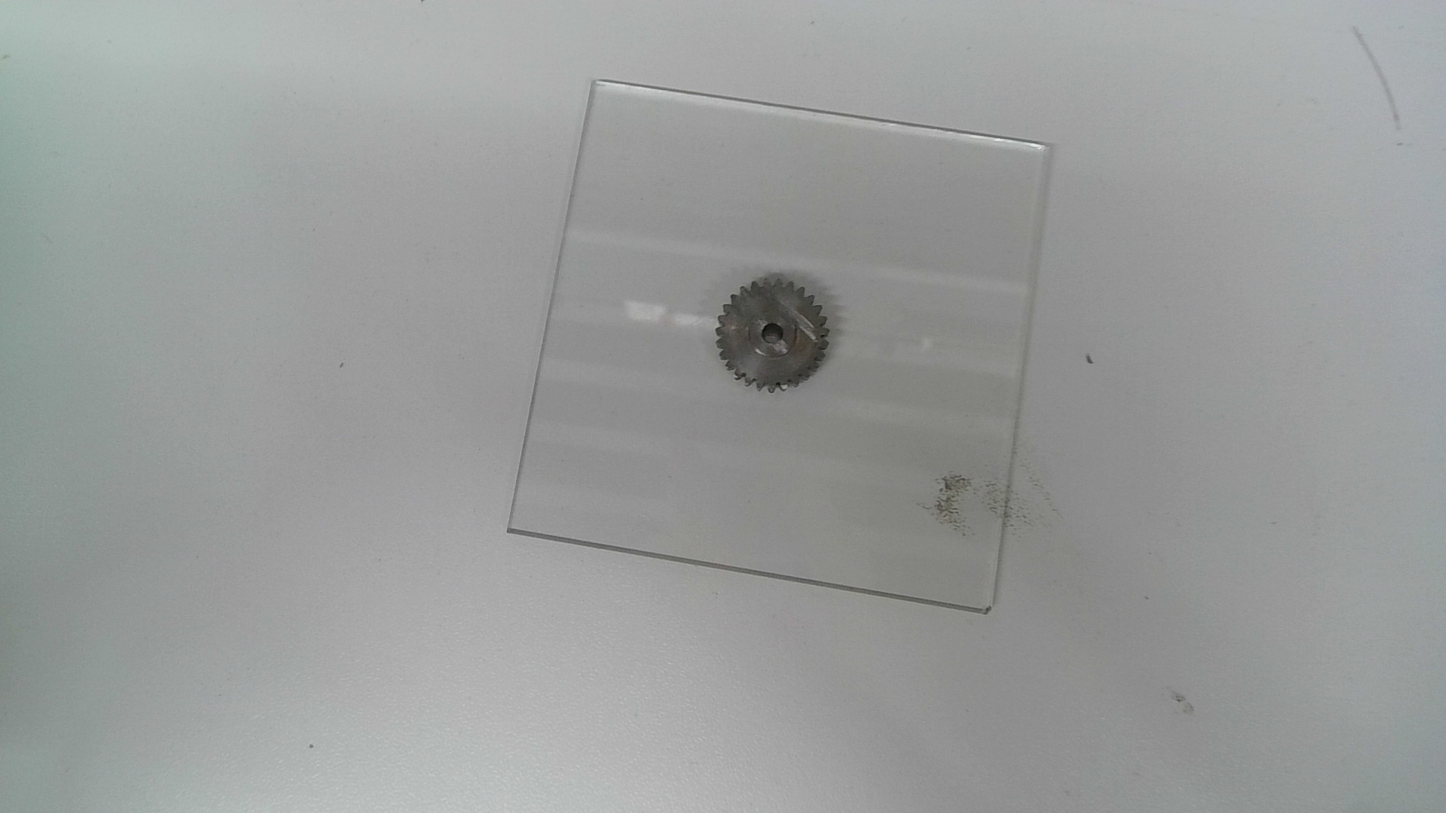gear: (713, 274, 831, 394)
